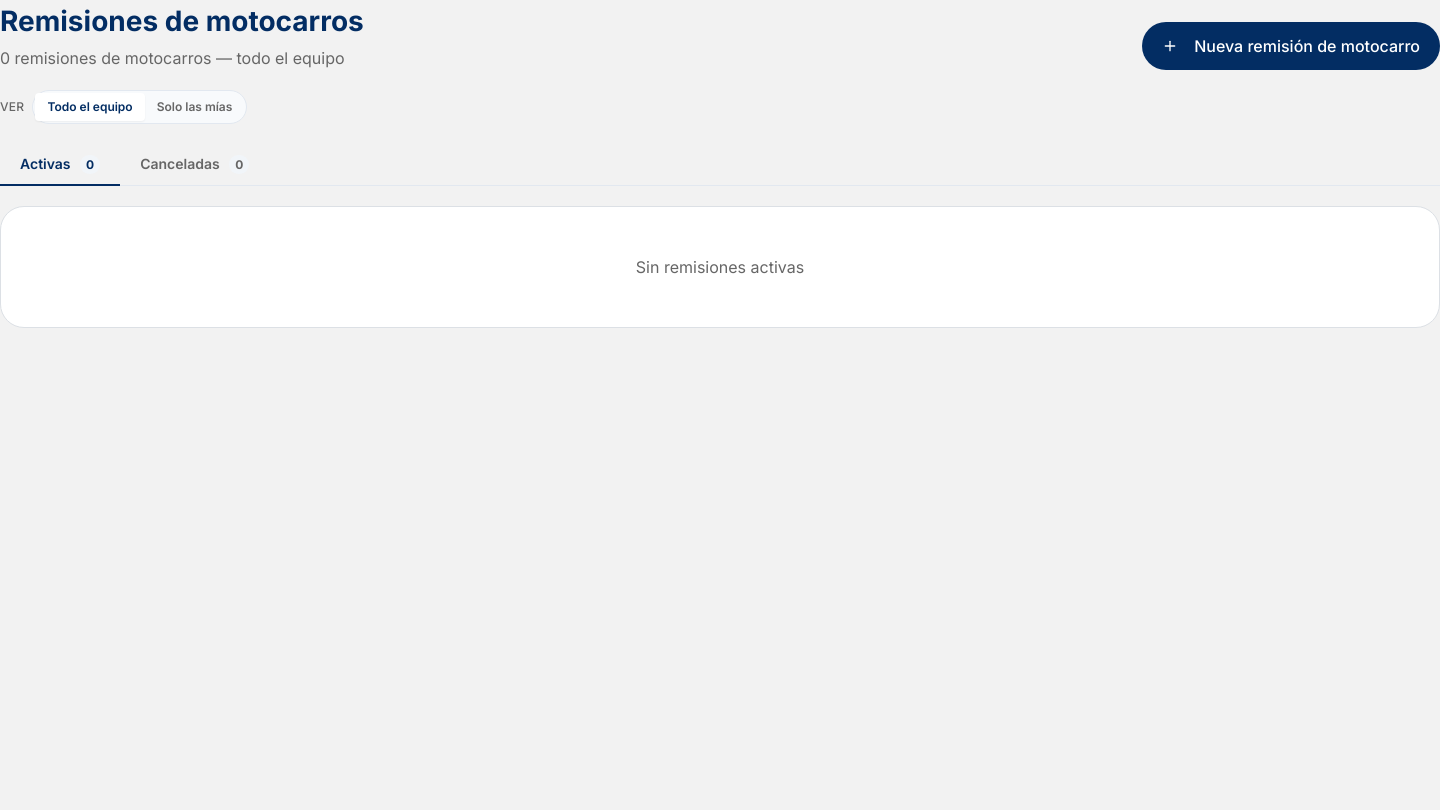
Test case: Remisiones · disponibilidad por color › cuando el color se acabó, dice que ya no hay
The width and height of the screenshot is (1440, 810).
Click the button "Nueva remisión de motocarro".
click(1291, 46)  # box left=1142, top=22, right=1439, bottom=70
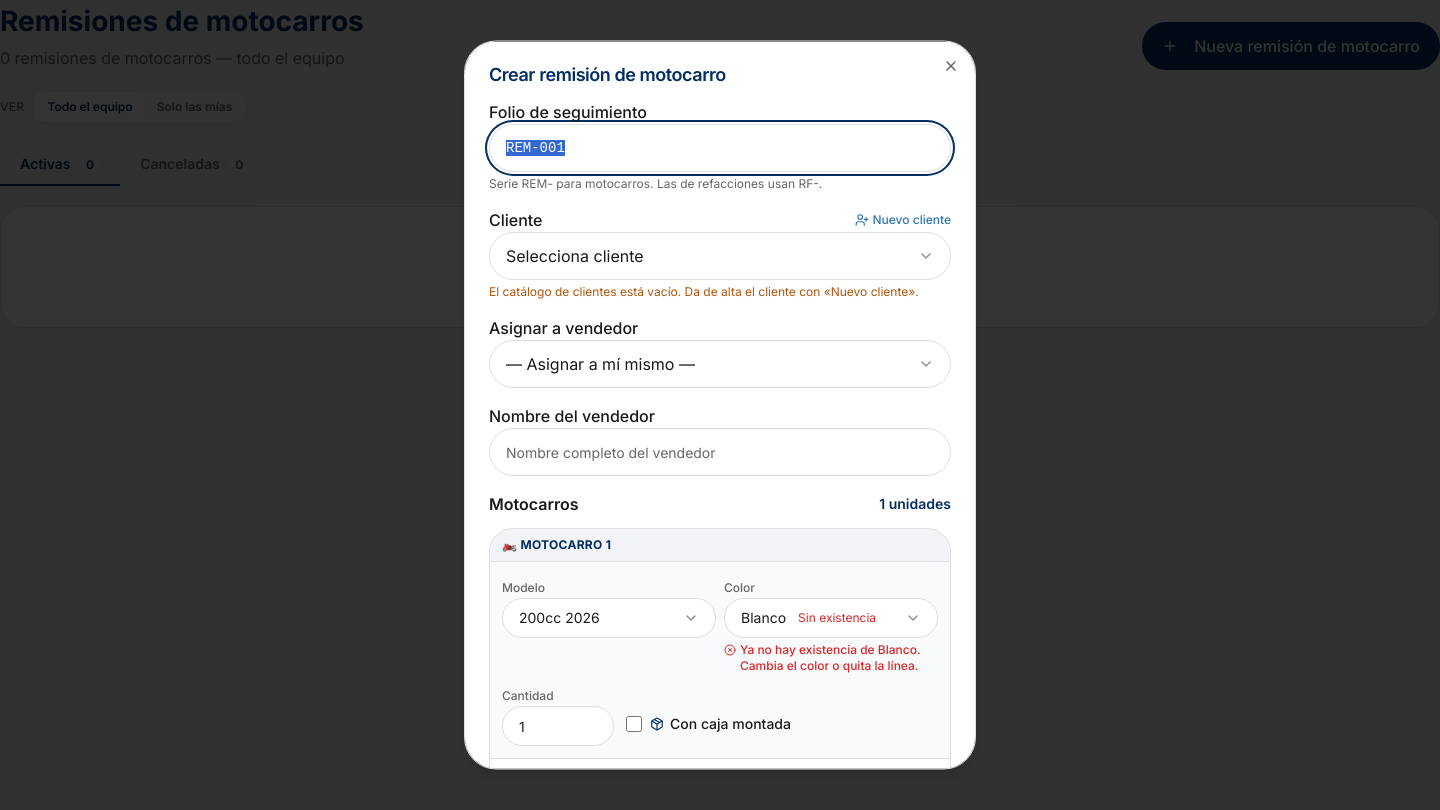
expect the text "Ya no hay existencia de Blanco" is shown: met, box left=740, top=642, right=920, bottom=672
